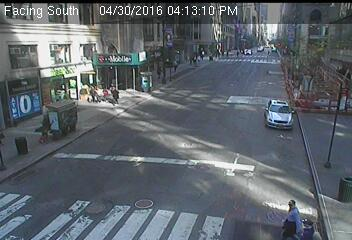neg: (271, 107, 295, 139), (322, 168, 344, 198), (322, 102, 344, 131), (66, 101, 85, 127), (40, 116, 56, 137)
pos: (271, 198, 300, 236), (82, 80, 100, 105), (302, 215, 320, 239), (108, 85, 121, 101)
